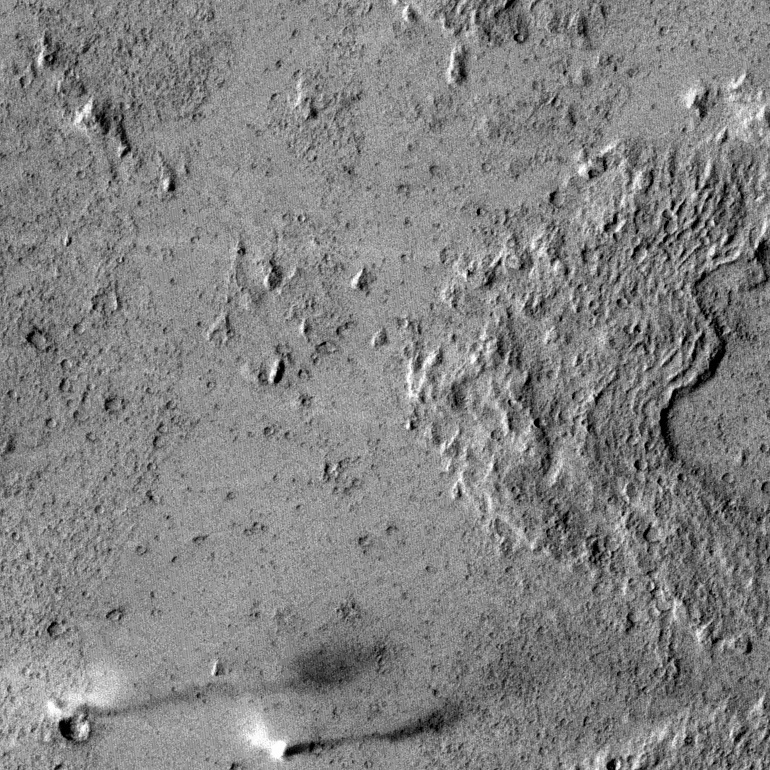dust_devil: (41, 634, 395, 723), (242, 681, 491, 763)
